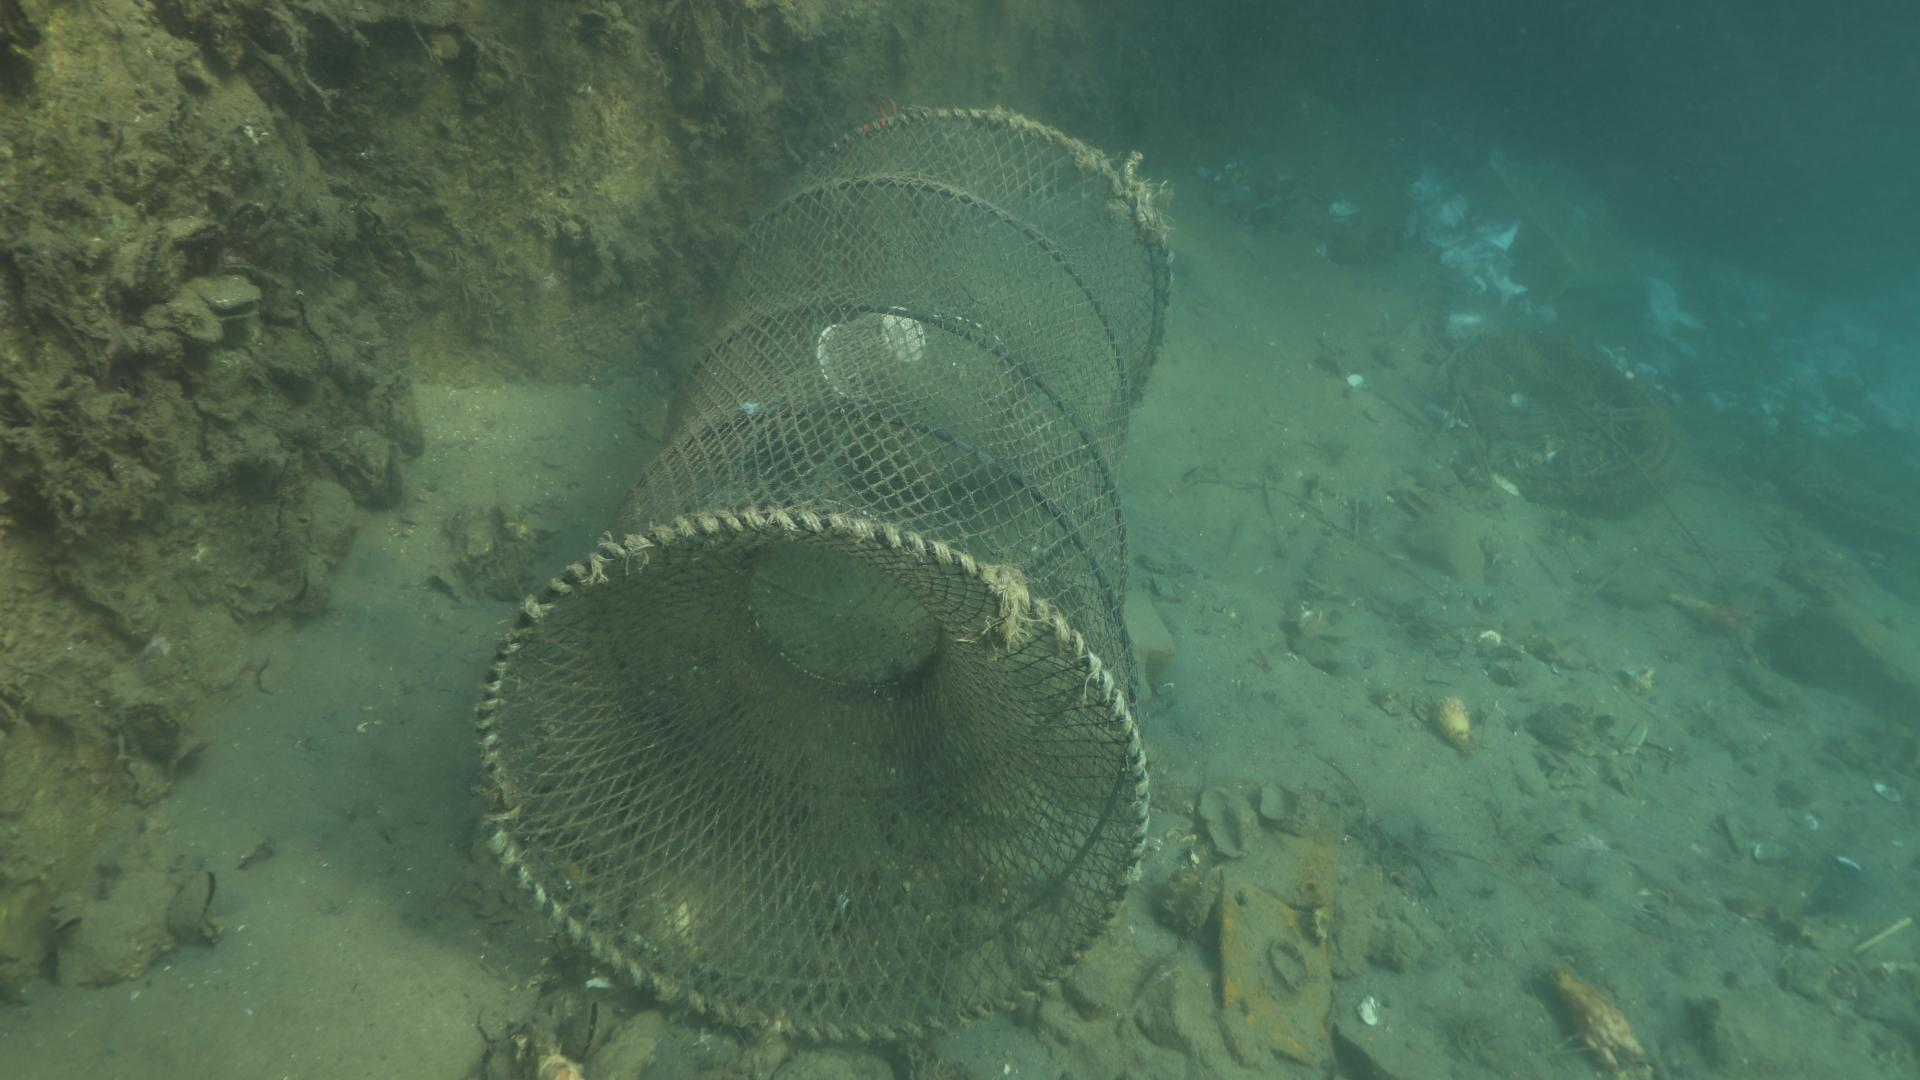spring fish trap: (469, 104, 1175, 1044)
